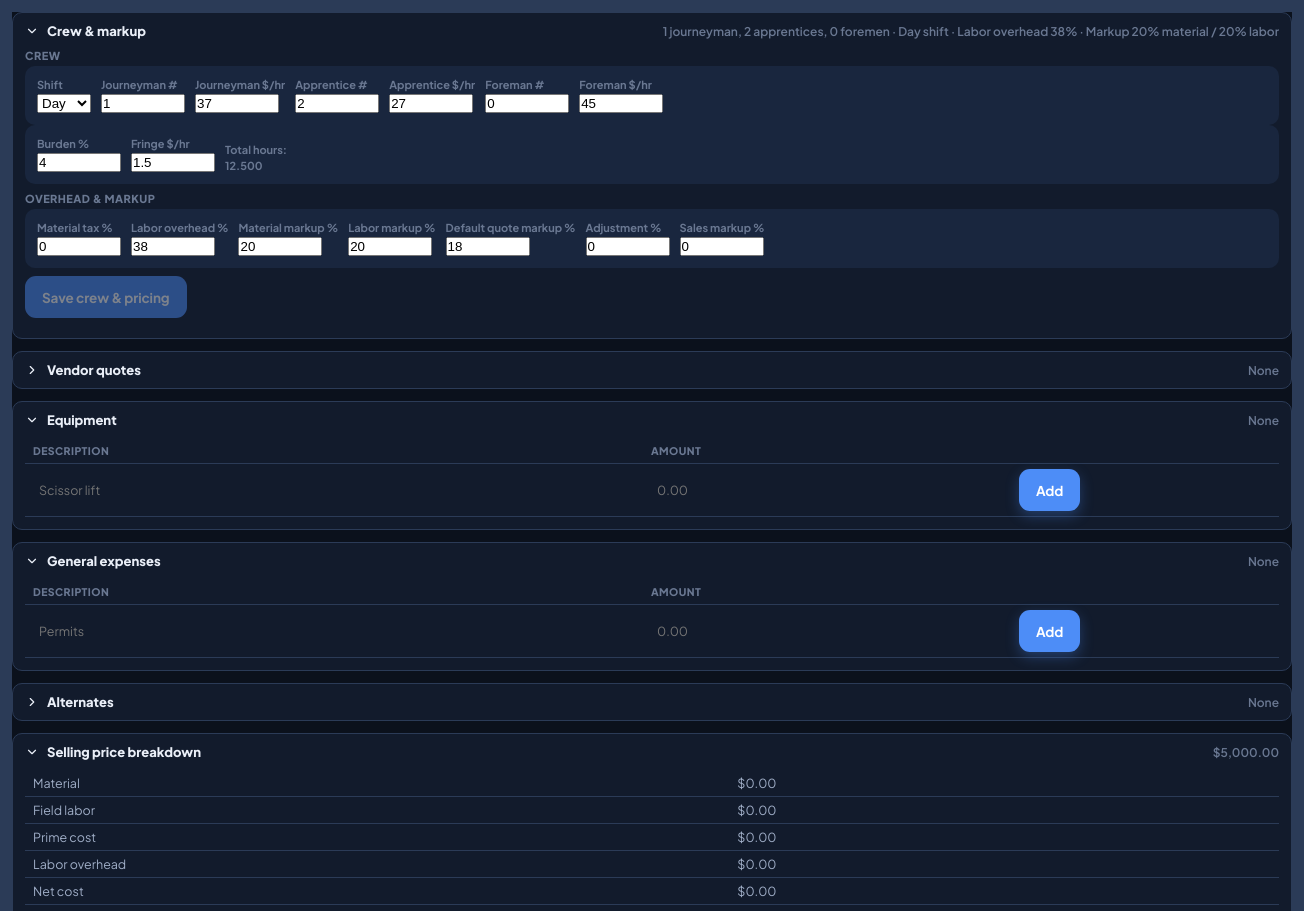
Scenario: UI cleanup round 2B — Accubid cards › toggling a card stores the choice
The width and height of the screenshot is (1304, 911).
Click the button with test id "accubid-quotes-toggle" at (94, 370), box [13,352,1291,388]
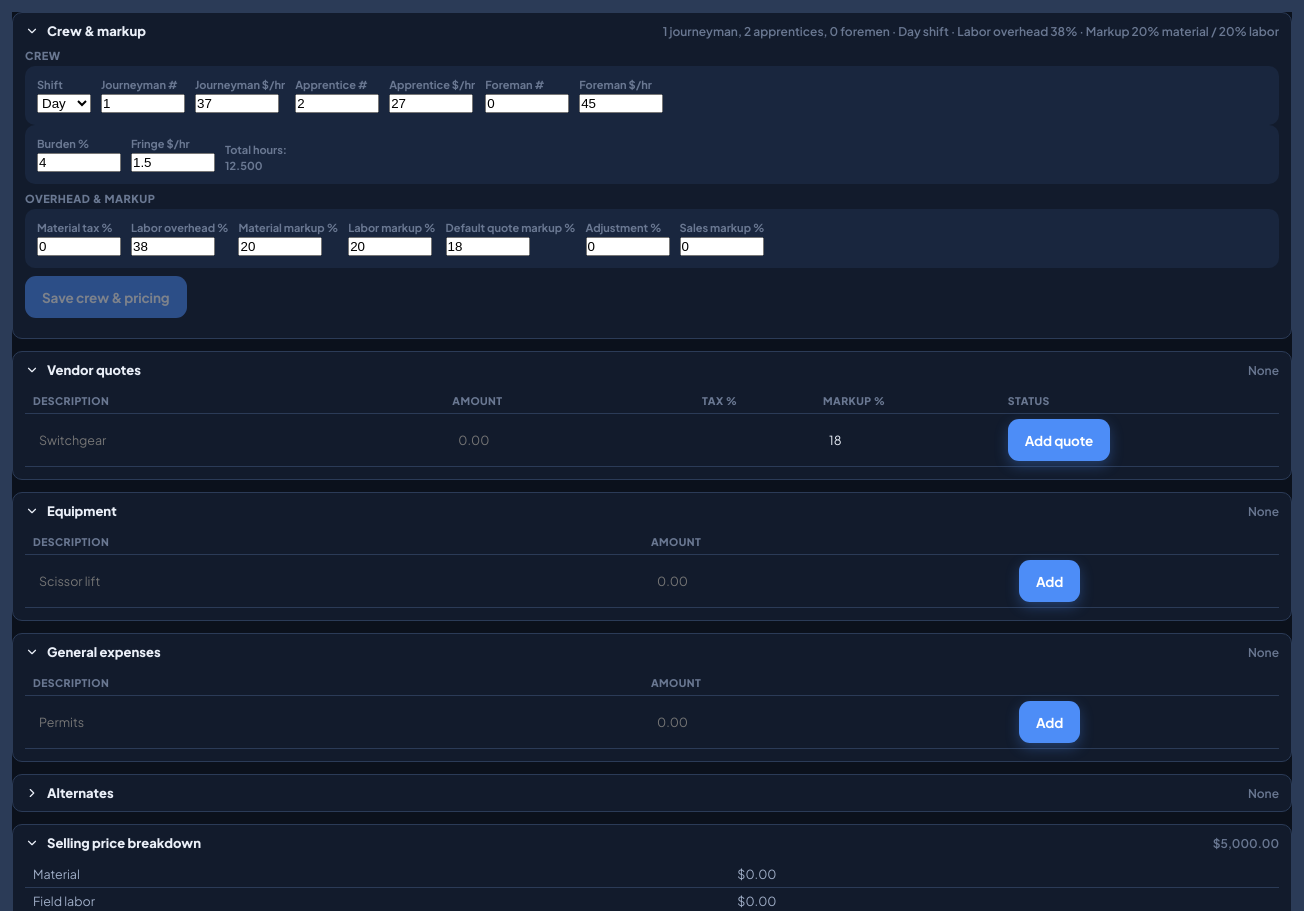
expect the button with test id "accubid-quotes-toggle" is expanded: met, box [13,352,1291,388]
